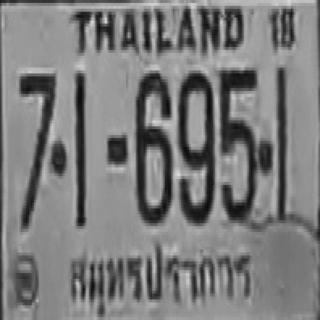N01: (74, 70, 86, 226), (276, 65, 287, 220)
N05: (218, 65, 257, 220)
N06: (134, 69, 173, 227)
N07: (18, 70, 55, 226)
N09: (176, 68, 217, 227)
P57: (63, 238, 255, 320)
